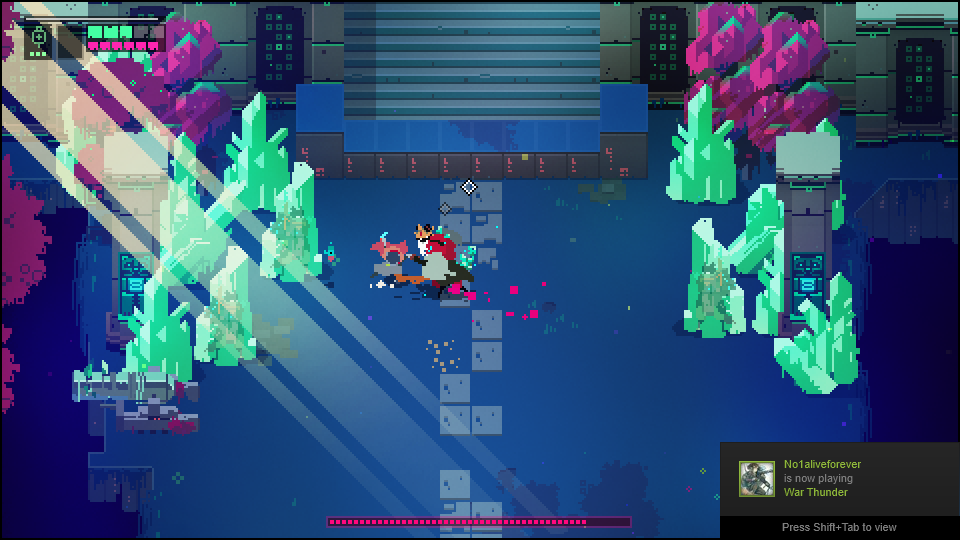hanged_man: (402, 221, 480, 301)
player: (369, 232, 413, 284)
